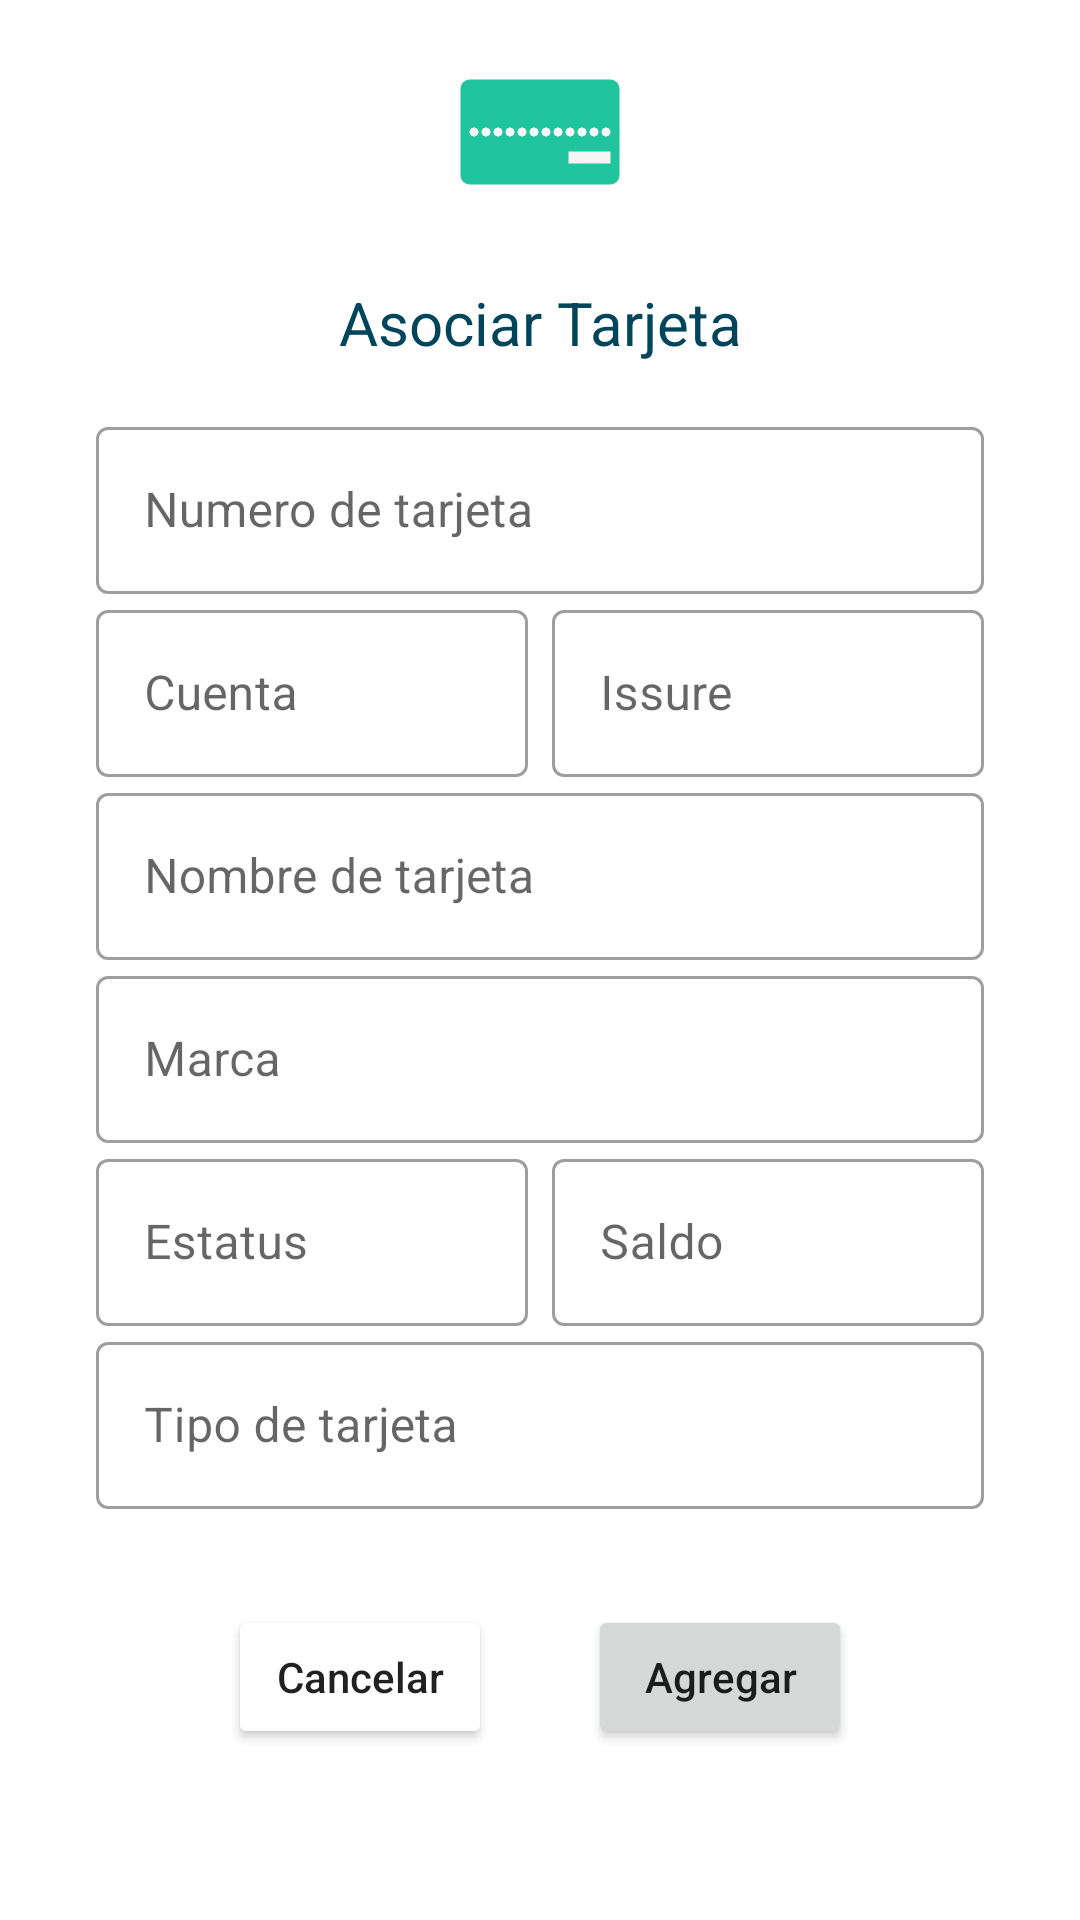

Named icons in this screenshot (1080x1920) and their bounding boxes, (x1=x1, y1=y1, x2=x2, y2=y2):
card: (x1=460, y1=79, x2=620, y2=185)
